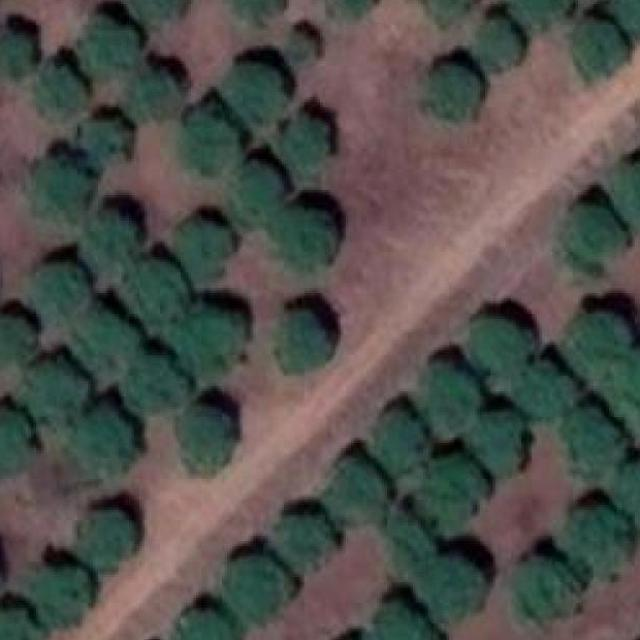Tree: (420, 453, 487, 529), (415, 556, 482, 626), (568, 510, 638, 577), (28, 157, 90, 232), (518, 556, 585, 624), (33, 564, 95, 630), (188, 308, 248, 376), (276, 208, 338, 270), (229, 61, 291, 123), (568, 208, 628, 270), (510, 360, 575, 417), (126, 260, 191, 317), (570, 17, 632, 76), (180, 106, 234, 172), (80, 406, 134, 472), (330, 462, 387, 524), (229, 560, 284, 624), (567, 412, 621, 477), (31, 360, 91, 417), (178, 224, 240, 279), (126, 358, 188, 413), (87, 210, 141, 272), (279, 306, 328, 374), (423, 366, 475, 430), (74, 310, 129, 370), (80, 510, 134, 570), (183, 406, 232, 472), (278, 518, 332, 575), (80, 19, 134, 76), (570, 310, 621, 370), (475, 317, 526, 372), (379, 412, 428, 469), (477, 412, 523, 472), (232, 164, 282, 219), (33, 262, 83, 317), (431, 66, 482, 118), (389, 515, 431, 577), (131, 66, 178, 121), (480, 20, 532, 69), (283, 113, 327, 167), (376, 603, 436, 640), (81, 120, 126, 169), (44, 66, 82, 123), (612, 347, 640, 422), (0, 315, 42, 365), (0, 414, 34, 474), (516, 0, 576, 33), (184, 610, 235, 640), (0, 33, 34, 77), (134, 0, 191, 25), (325, 0, 382, 23), (224, 0, 289, 20), (281, 25, 317, 61), (0, 610, 42, 640), (428, 0, 475, 25), (622, 460, 640, 515), (622, 163, 640, 218), (628, 0, 640, 27)
